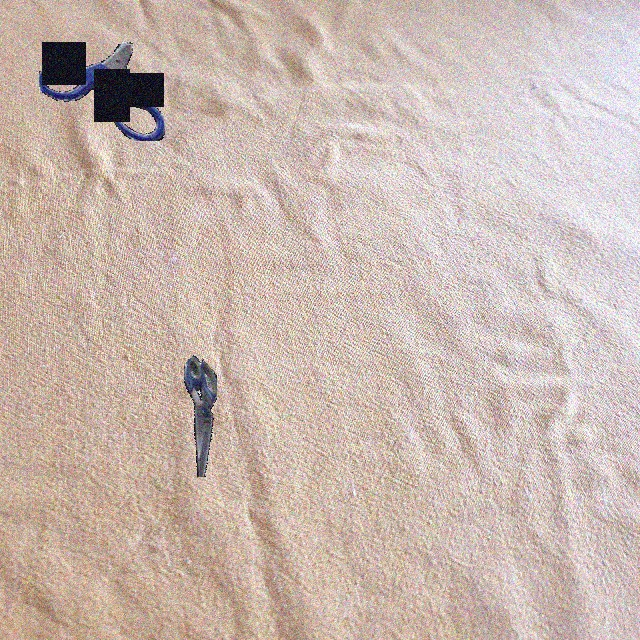scissors: (39, 42, 165, 141), (184, 355, 217, 477)
